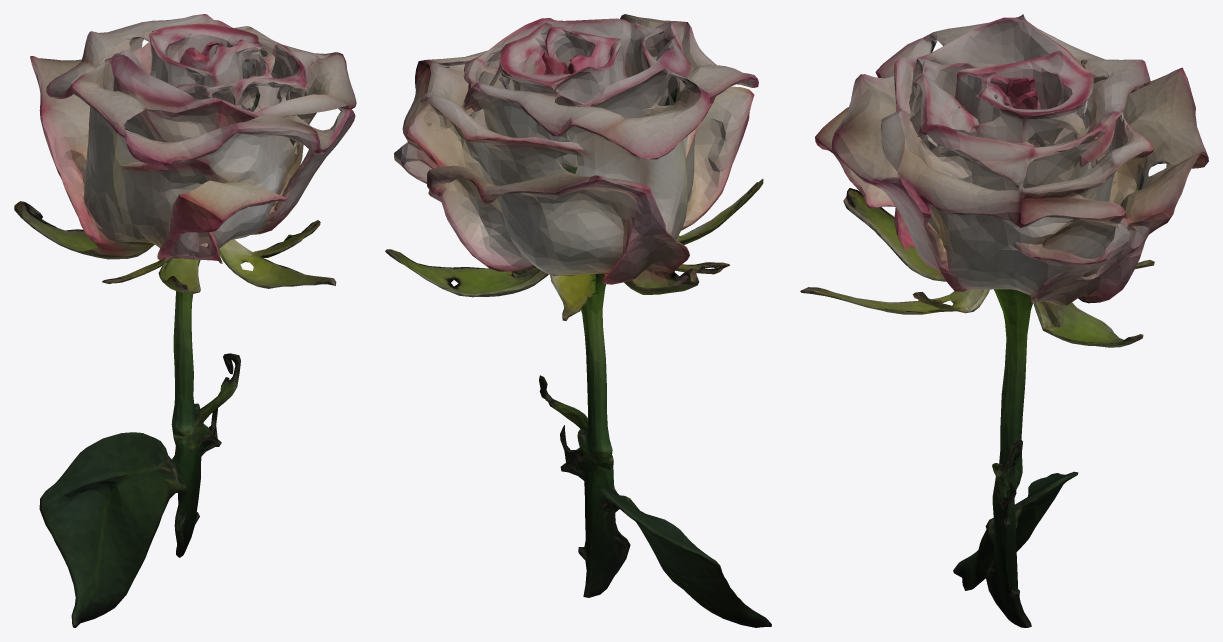
3 renders of one model, left to right at view 1: azimuth 30°, elevation 25°; view 2: azimuth 150°, elevation 25°; view 3: azimuth 270°, elevation 25°, orthographic. The views are drawn at different scales.
Parts seen in each view (by area): view 1: world; view 2: world; view 3: world.
Part boxes in pixels (x1=…): world: x1=14, y1=14, x2=356, y2=627; world: x1=385, y1=14, x2=771, y2=627; world: x1=800, y1=14, x2=1208, y2=627.
Bounding box in the file's own units: 0.5836 × 0.982 × 0.6101.
1 material, 1 textured.
